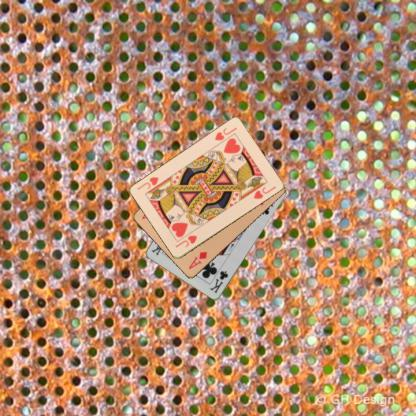Ad: (186, 249, 209, 270)
Jh: (172, 233, 198, 250), (212, 125, 238, 142)
Kc: (207, 268, 229, 294)
